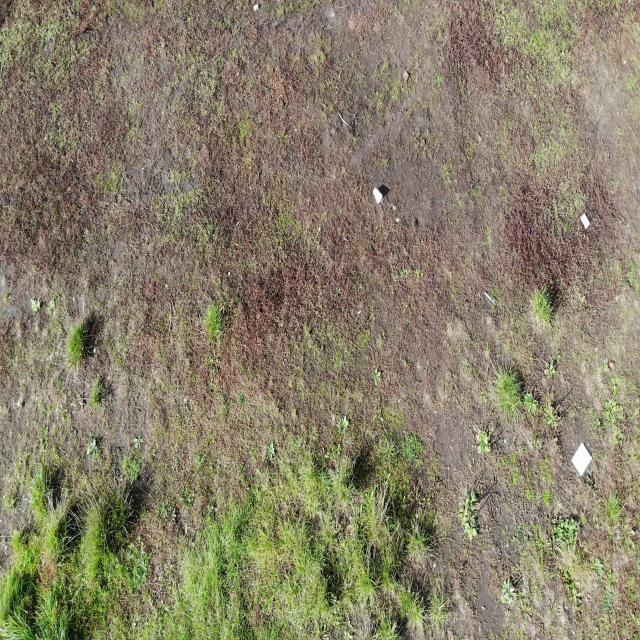rubbish: (570, 441, 594, 477), (371, 185, 383, 207), (578, 212, 590, 230), (252, 3, 259, 13)
